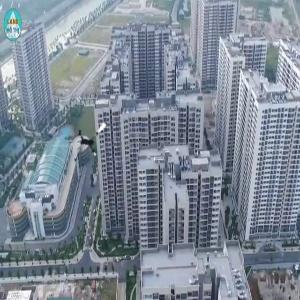drone: (69, 116, 111, 158)
